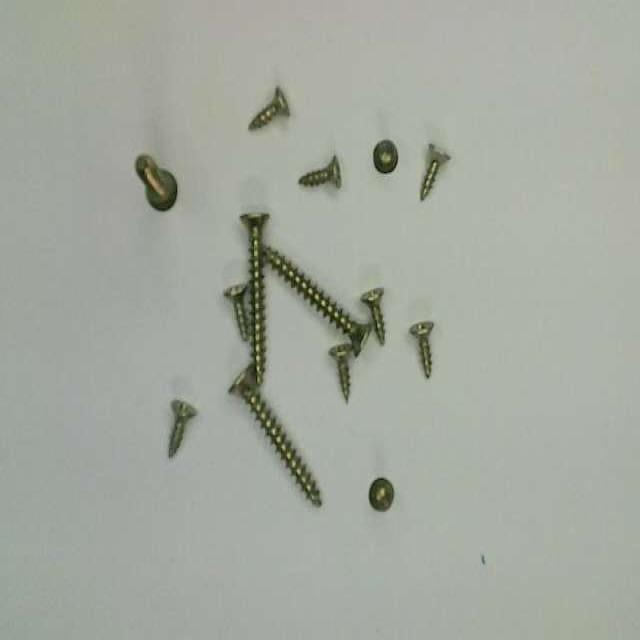Parafuso: (229, 367, 319, 505), (262, 245, 370, 355), (241, 215, 269, 384), (135, 155, 177, 209), (249, 87, 289, 129), (421, 143, 449, 199), (169, 399, 196, 456), (224, 284, 247, 340), (330, 343, 352, 401), (410, 321, 433, 376), (361, 289, 384, 343), (299, 155, 340, 185), (369, 477, 393, 511), (373, 140, 397, 172)
